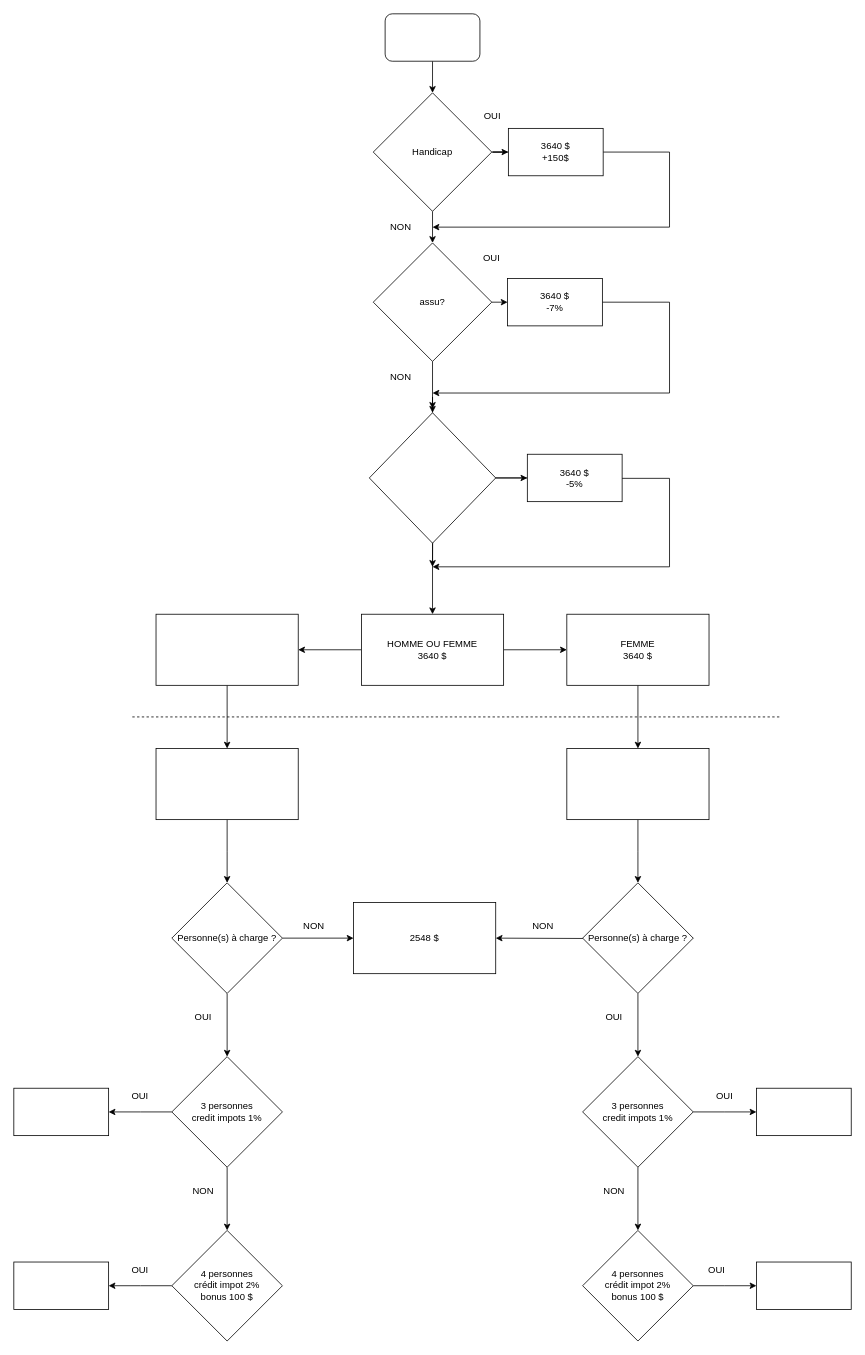
Some shapes in this 865 by 1355 pixel diagram are drawn without their labels. The shapes that lost their labels are listed below. From the top down, each one's centre as x and y in pixels, then its label:
At [432,37]: "Début 3640 $".
At [432,477]: "Résident Canadien ?".
At [226,649]: "HOMME 3640 $".
At [226,784]: "HOMME 2548 $".
At [637,784]: "FEMME 2548 $ credit impot 2%".
